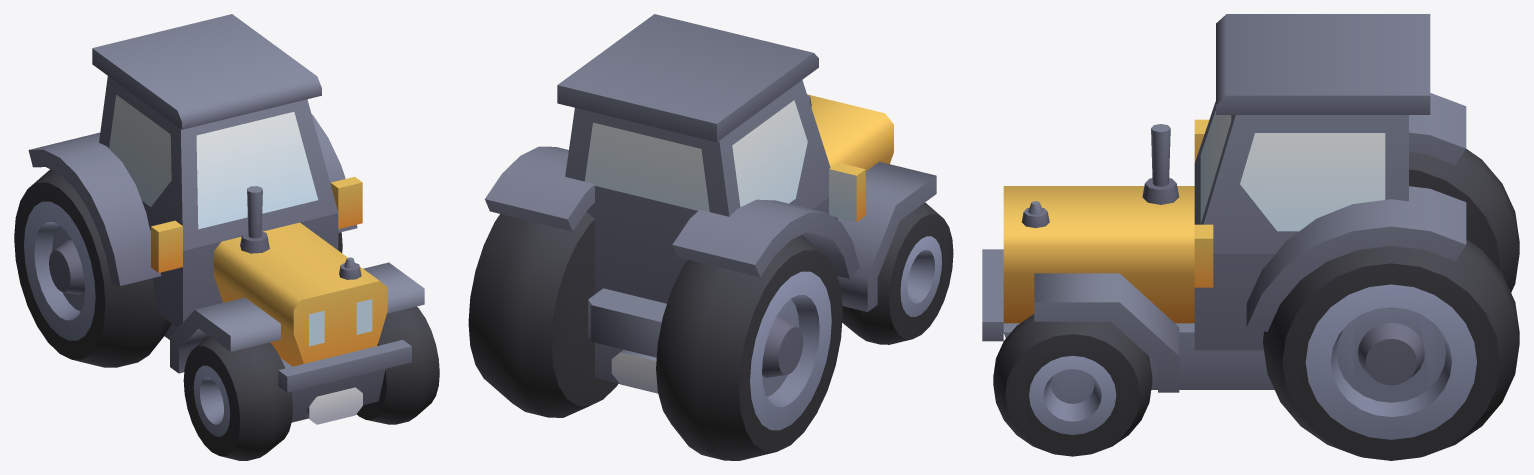
File: tractor.glb
The picture shows the model from 3 angles, left to right: view 1: azimuth 30°, elevation 25°; view 2: azimuth 150°, elevation 25°; view 3: azimuth 270°, elevation 25°; orthographic projection. The views are drawn at different scales.
Parts seen in each view (by area): view 1: body, wheel-back-right, wheel-front-right, wheel-front-left; view 2: body, wheel-back-right, wheel-back-left, wheel-front-right; view 3: body, wheel-back-left, wheel-front-left, wheel-back-right.
Part boxes in pixels (x1,y1,x2,y2): body: (28,14,424,424); wheel-back-right: (14,169,171,367); wheel-front-right: (183,336,292,460); wheel-front-left: (356,306,439,424); body: (485,14,936,393); wheel-back-right: (656,235,842,460); wheel-back-left: (468,211,618,417); wheel-front-right: (842,202,953,344); body: (982,14,1466,392); wheel-back-left: (1263,239,1519,460); wheel-front-left: (993,314,1152,456); wheel-back-right: (1409,148,1519,292).
Bounding box in the file's own units: 1.34 × 1.6 × 2.2.
